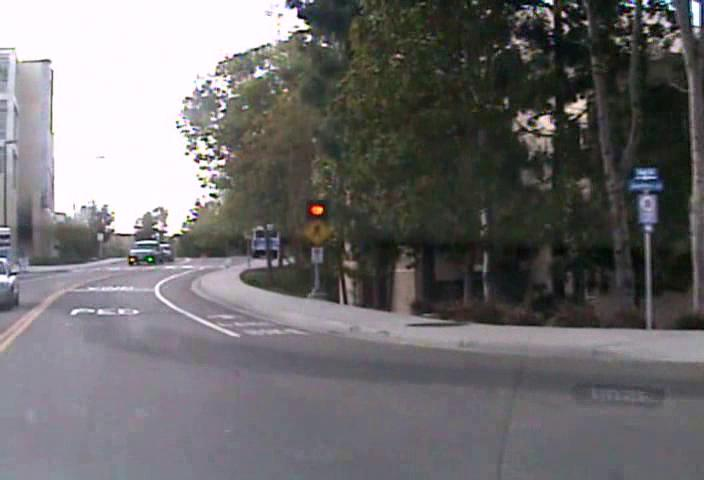pedestrianCrossing: (300, 217, 332, 244)
